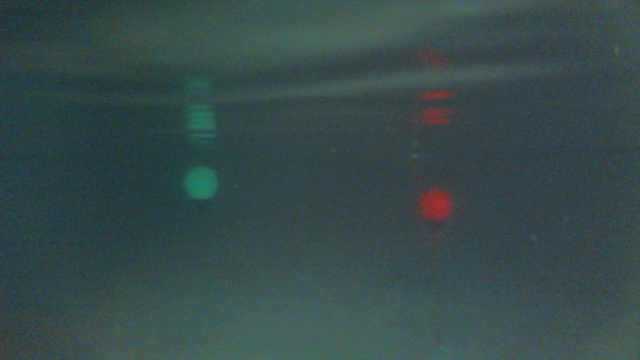buoy_green: (184, 162, 217, 216)
buoy_red: (417, 189, 453, 231)
